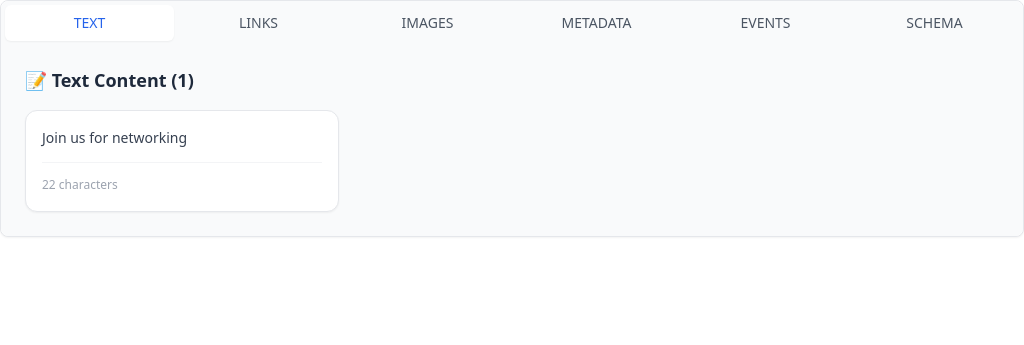
ScrapeResultTabs with Schema.org Data › Events Tab › filters events correctly
Click the button "EVENTS" at (766, 23), box x1=681 y1=5 x2=850 y2=41
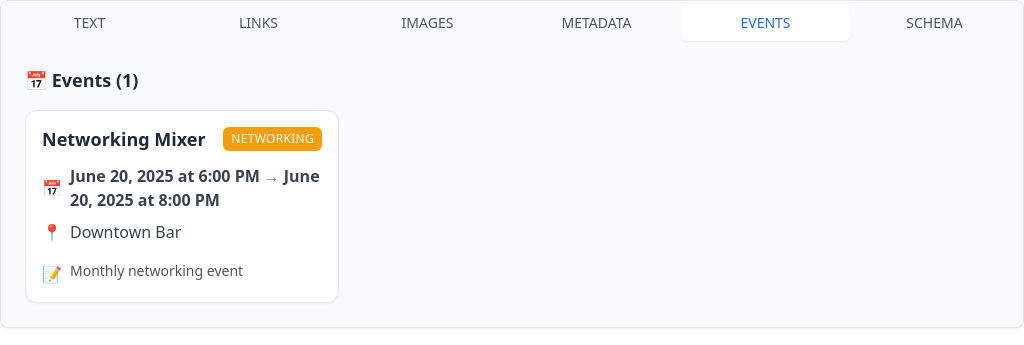
Check: the heading "Networking Mixer" is shown, box x1=42 y1=127 x2=206 y2=152
